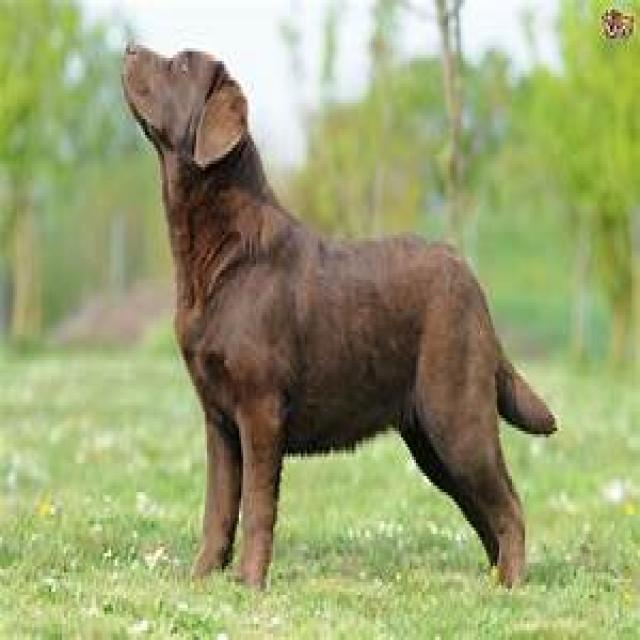dog: (119, 45, 559, 592)
